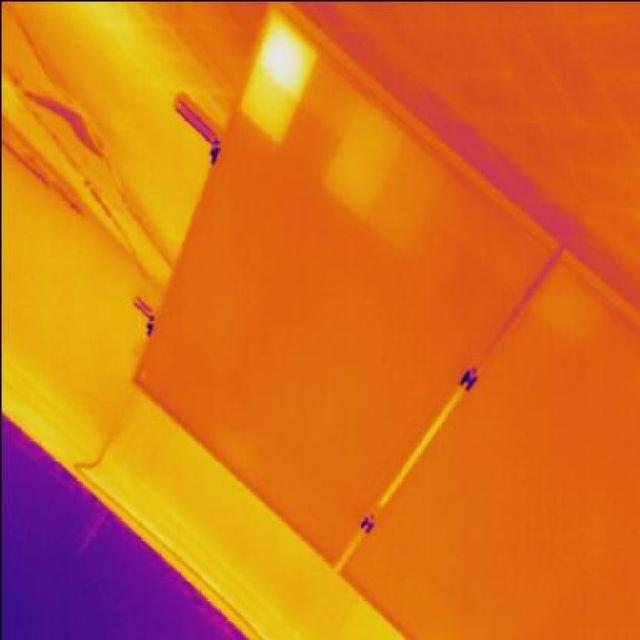hotspot: (237, 12, 323, 145), (361, 143, 462, 254), (319, 97, 404, 220)
